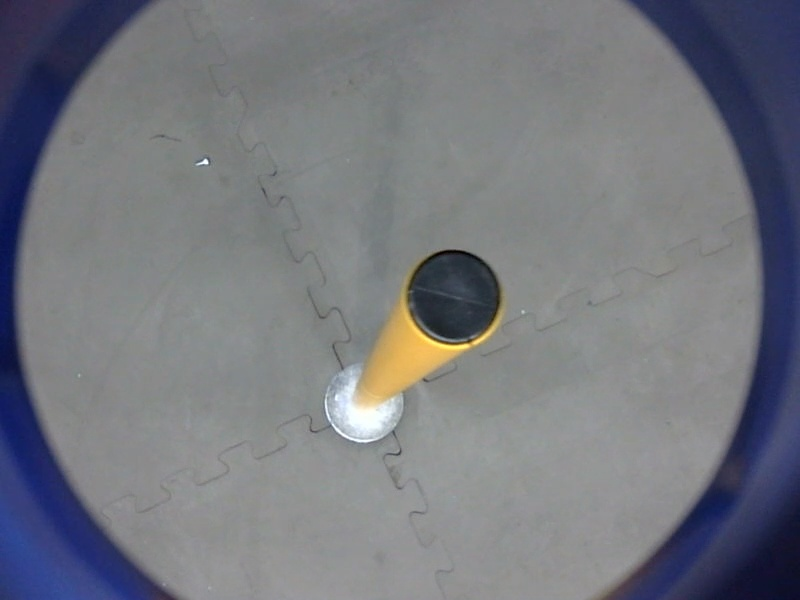tip: (395, 242, 511, 352)
